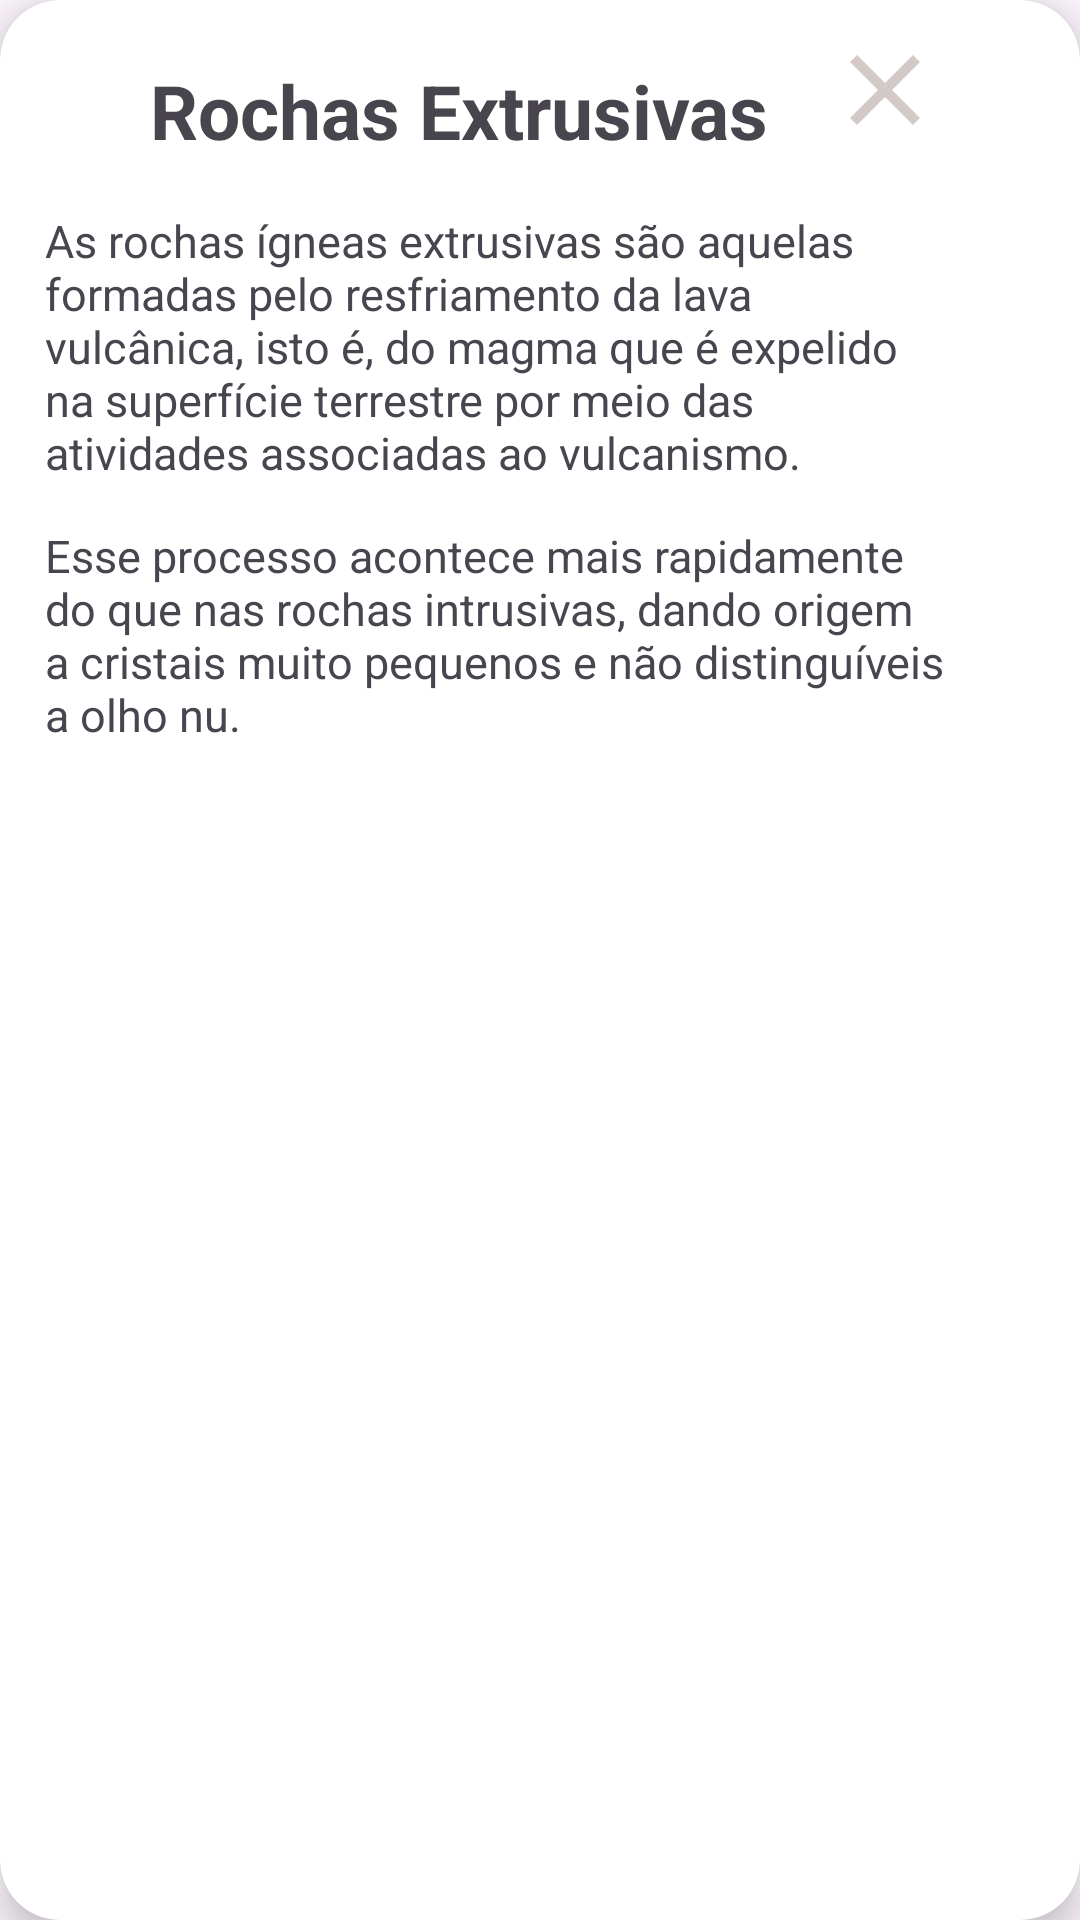

Locate icon controls on the screen. Image size 1080×1920, boxes as bbox(x1, y1, x2, y2).
fechar: bbox(850, 55, 920, 125)
